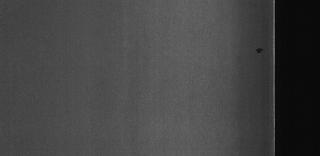oil spot: (249, 45, 265, 57)
